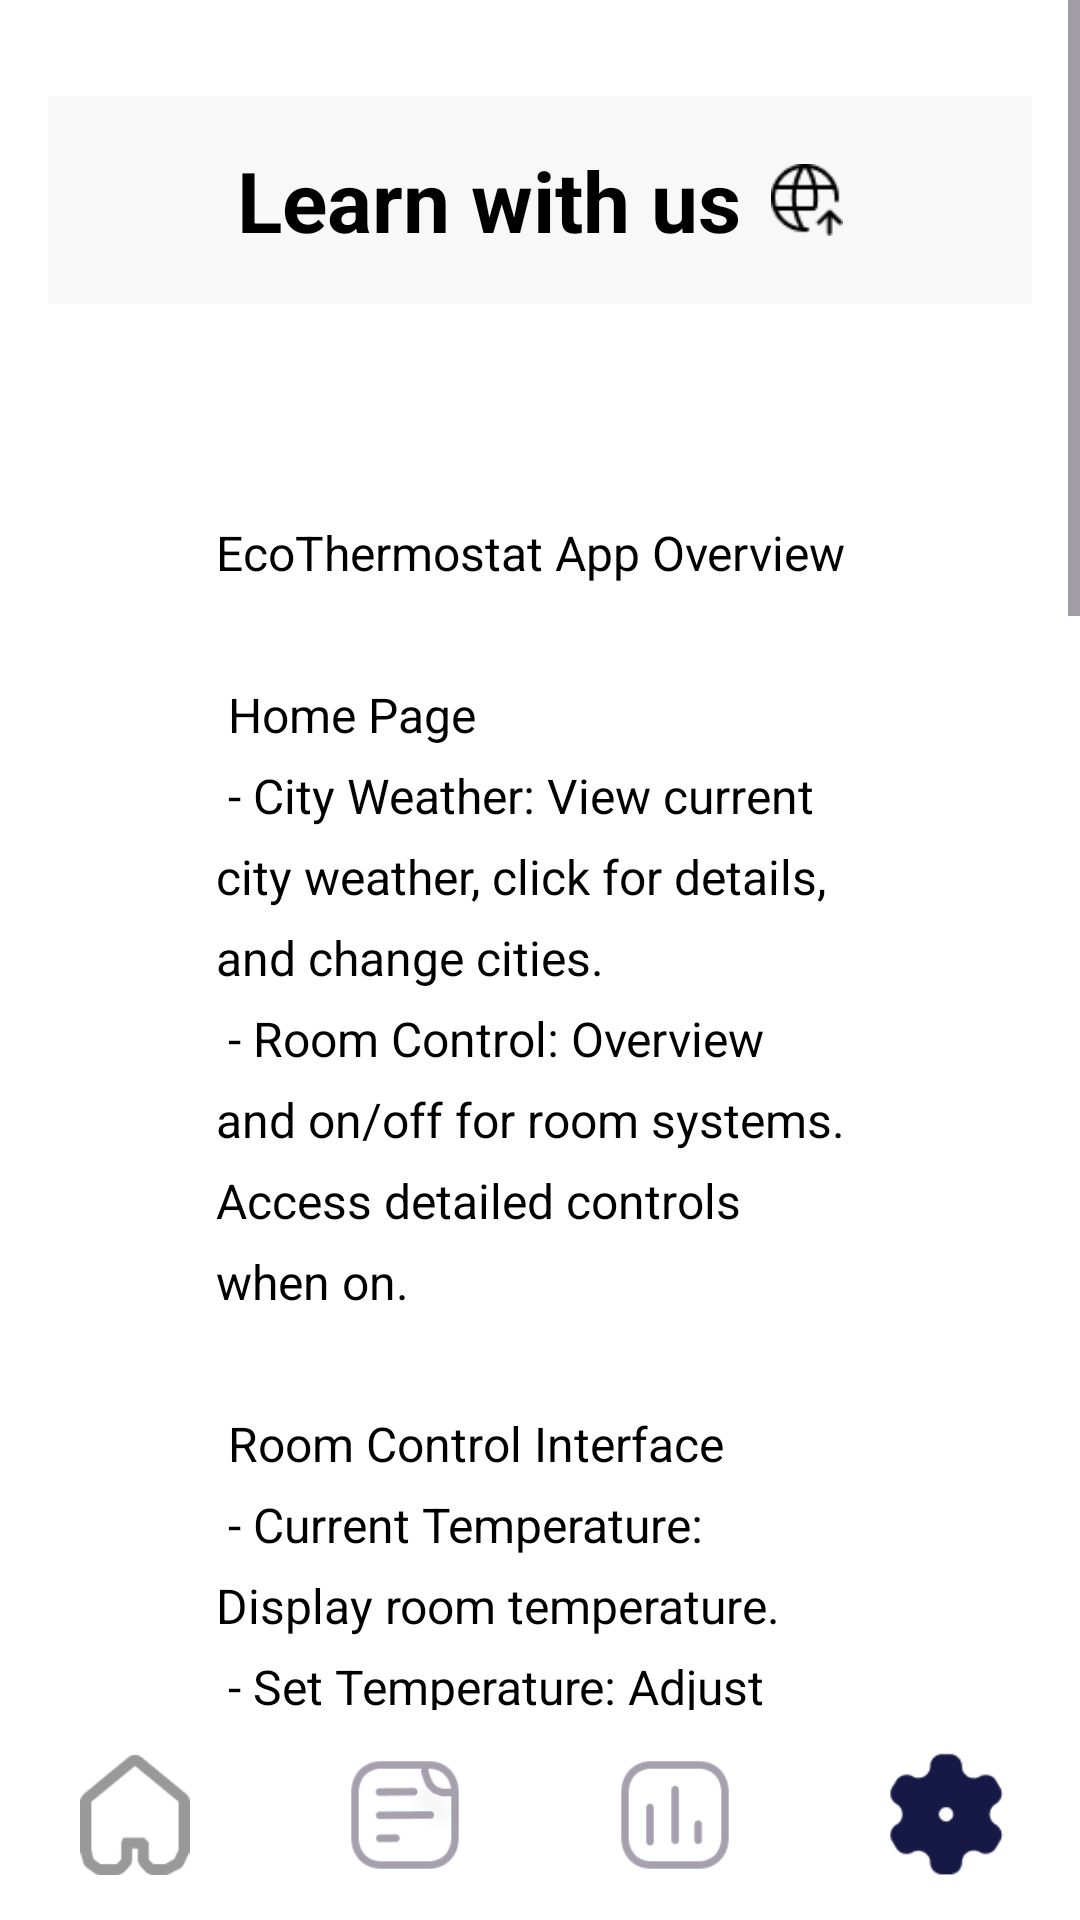

Point at icon controls on the screen. Image size 1080 × 1920, points as [x,y].
settings: [946,1814]
